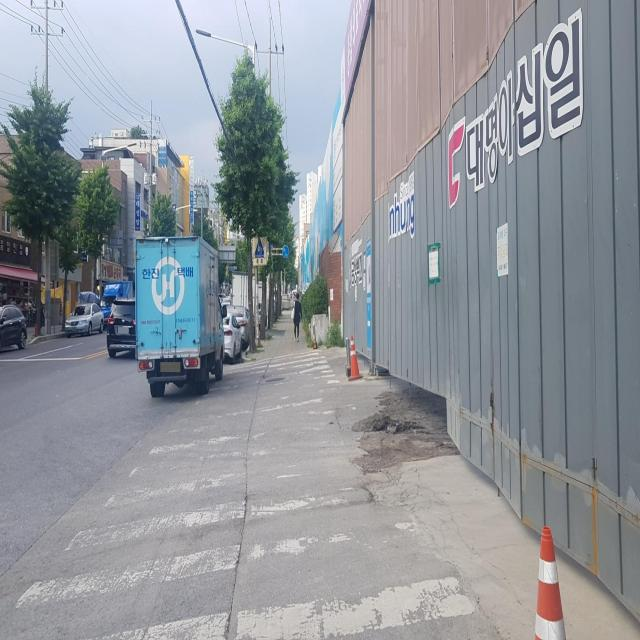횡단보도: (12, 344, 479, 638)
